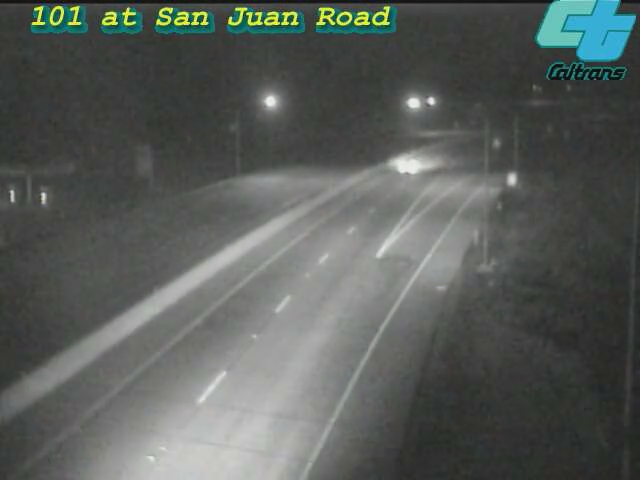vehicle: (369, 126, 449, 206)
